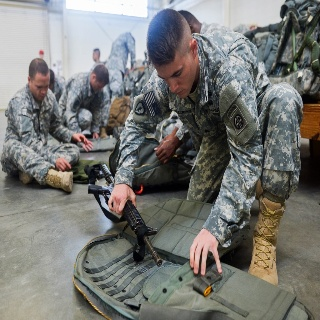rifle: (84, 161, 166, 269)
